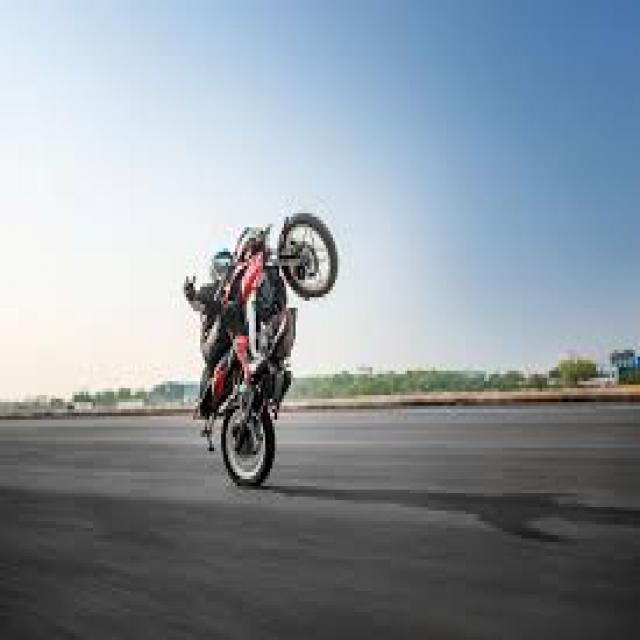Wheeling: (223, 194, 359, 481)
